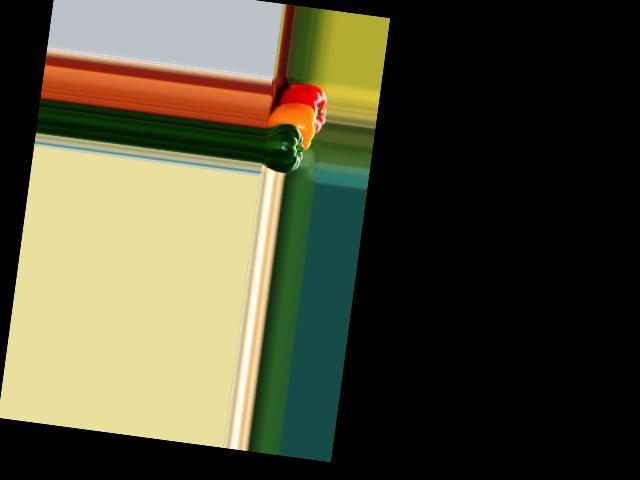bell_pepper: (268, 80, 329, 134)
